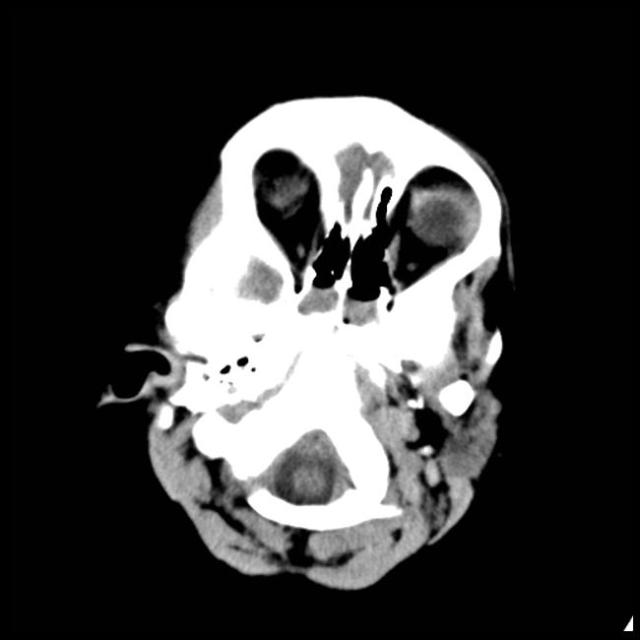lesion: (94, 90, 520, 592)
